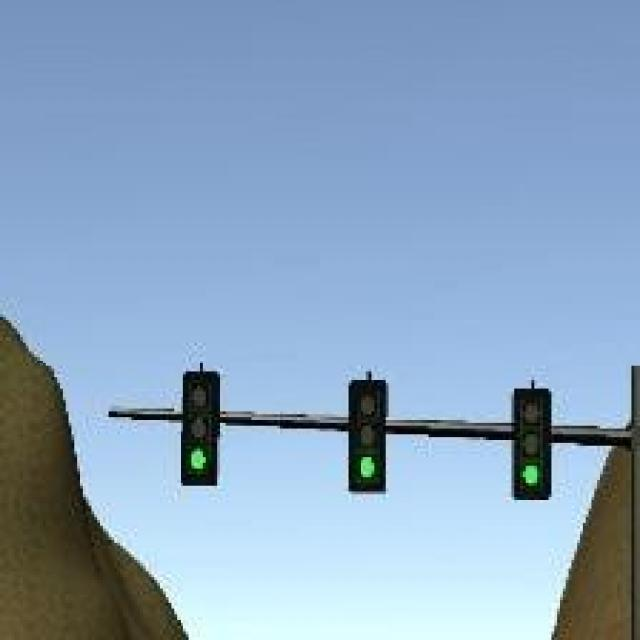green_light: (509, 386, 554, 503), (180, 368, 223, 482), (346, 375, 386, 492)
